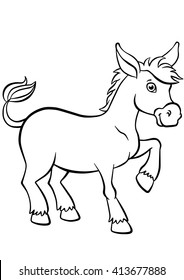animal: (5, 40, 182, 227)
